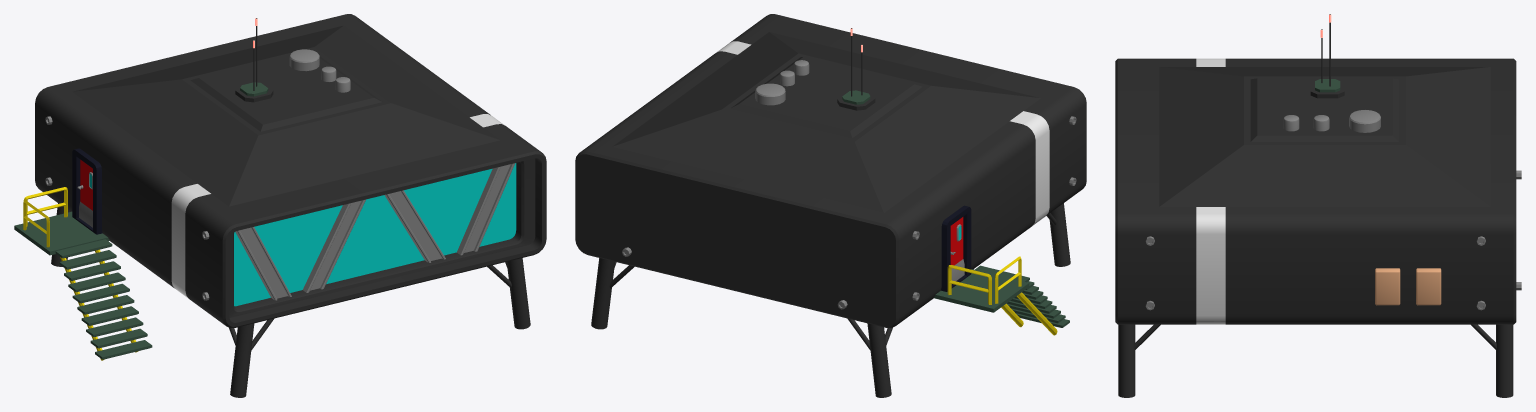
File: residentHouse.fbx
3 views of the same model, side by side, from view 1: azimuth 30°, elevation 25°; view 2: azimuth 150°, elevation 25°; view 3: azimuth 270°, elevation 25° (orthographic). The views are drawn at different scales.
Visible parts, largest first — view 1: Cube.089; view 2: Cube.089; view 3: Cube.089.
Boxes of the visible parts, x1=… form: Cube.089: x1=14, y1=14, x2=546, y2=397; Cube.089: x1=575, y1=14, x2=1086, y2=397; Cube.089: x1=1115, y1=14, x2=1521, y2=397.
Bounding box in the file's own units: 1259 × 873 × 1083.
